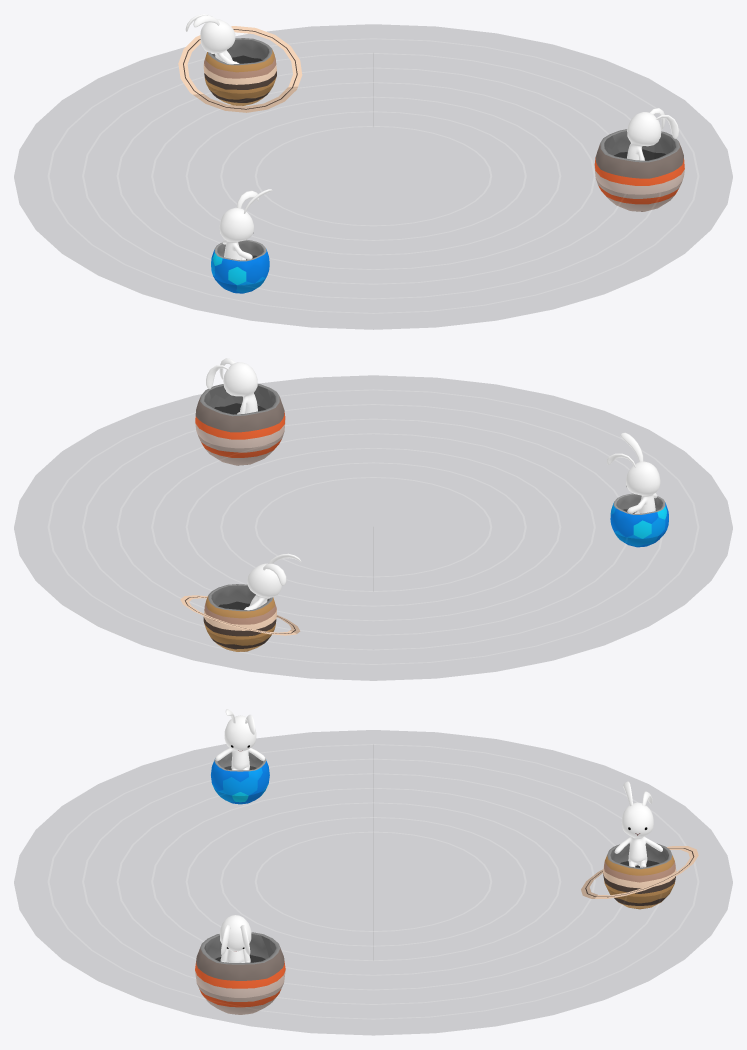
The model's file is solar_system.glb.
3 views of the same model, one above another, from view 1: azimuth 30°, elevation 25°; view 2: azimuth 150°, elevation 25°; view 3: azimuth 270°, elevation 25° (orthographic).
Parts seen in each view (by area): view 1: universe, saturn, jupiter, uranus; view 2: universe, jupiter, saturn, uranus; view 3: universe, jupiter, saturn, uranus.
Boxes of the visible parts, x1,y1,x2,y2 form: universe: (14,25,732,329); saturn: (178,14,302,112); jupiter: (594,108,684,211); uranus: (211,189,272,293); universe: (14,376,732,680); jupiter: (195,358,285,465); saturn: (180,553,301,651); uranus: (607,432,668,547); universe: (14,730,732,1034); jupiter: (195,915,285,1014); saturn: (581,781,698,909); uranus: (211,709,269,804).
Size of the model in its own units: 43.2 by 7.69 by 43.2.
Materials: 2 (2 with a texture image).
